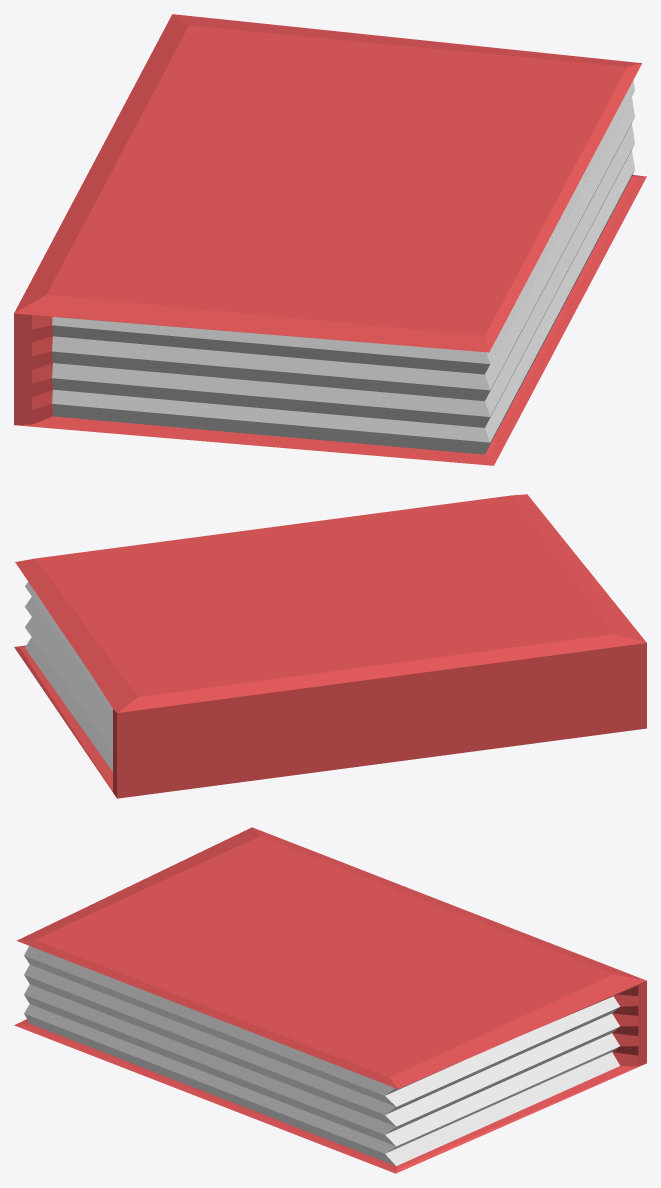
File: book2.fbx
3 views of the same model, one above another, from view 1: azimuth 30°, elevation 25°; view 2: azimuth 150°, elevation 25°; view 3: azimuth 270°, elevation 25° (orthographic). The views are drawn at different scales.
Visible parts, largest first — view 1: Cube.002; view 2: Cube.002; view 3: Cube.002.
Part boxes in pixels (x1,y1,x2,y2): Cube.002: (14, 14, 646, 465); Cube.002: (14, 494, 646, 798); Cube.002: (14, 827, 646, 1173).
Size of the model in its own units: 18.96 by 3.08 by 19.26.
